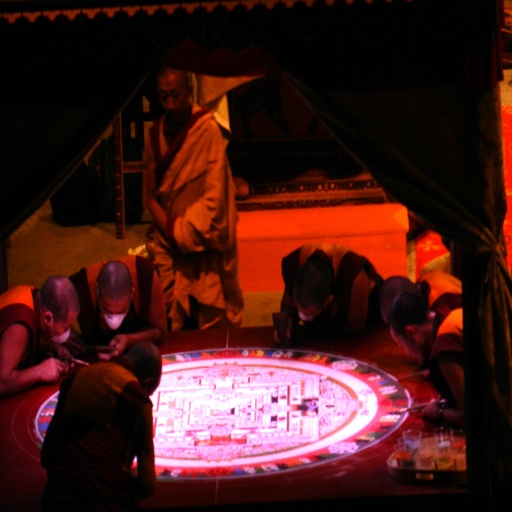hand: (38, 355, 64, 385), (410, 400, 439, 423), (272, 313, 292, 345), (109, 331, 128, 354)
